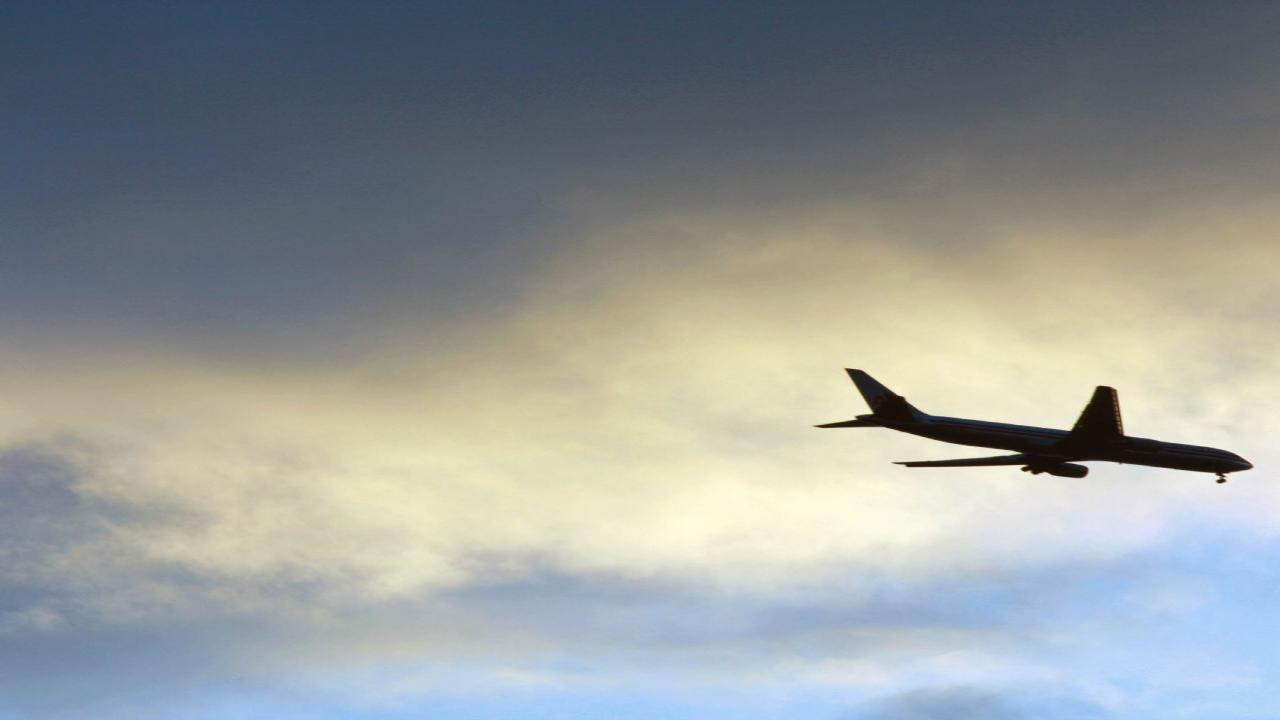Airplane: (806, 344, 1266, 519)
